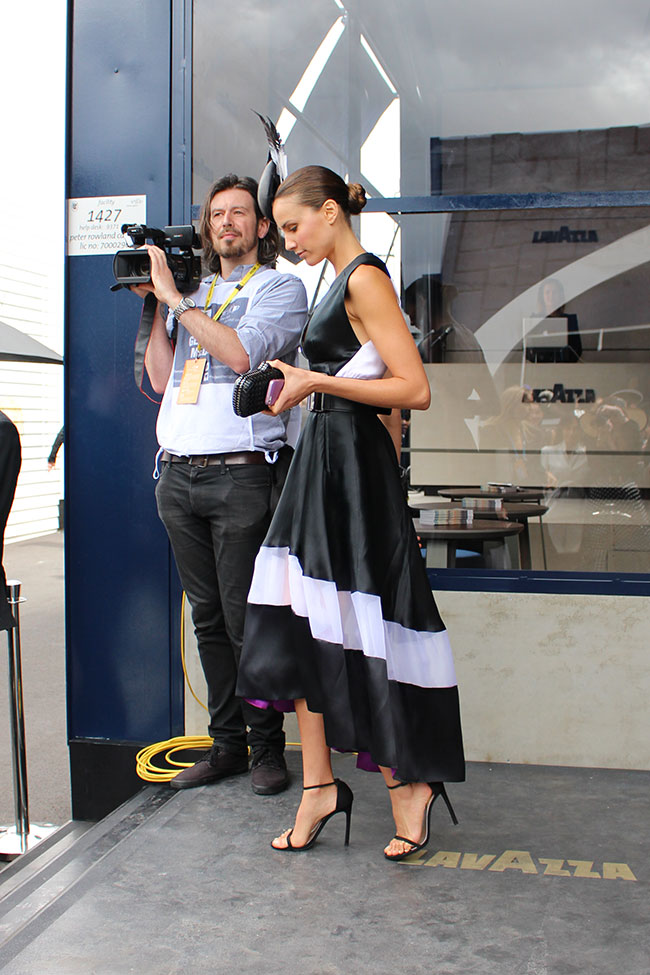Person: (219, 162, 494, 879), (110, 160, 311, 798)
